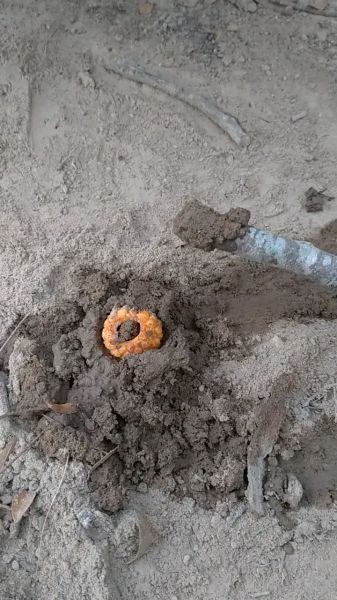eggs: (98, 300, 170, 358)
